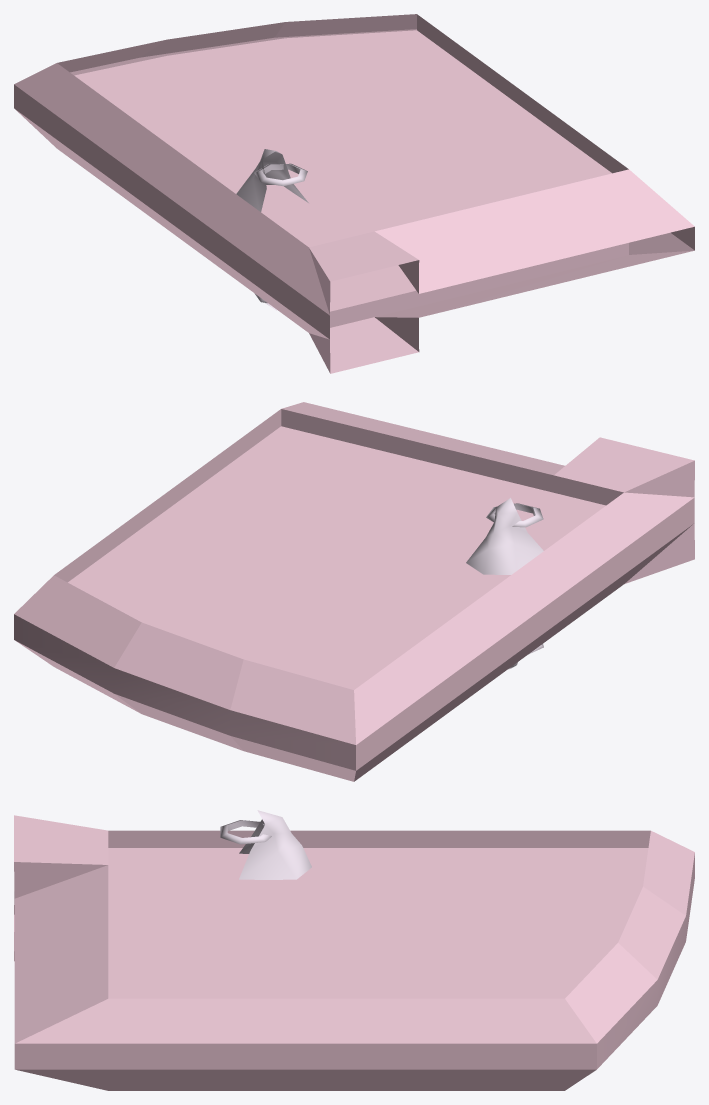
The picture shows the model from 3 angles, top to bottom: view 1: azimuth 30°, elevation 25°; view 2: azimuth 150°, elevation 25°; view 3: azimuth 270°, elevation 25°; orthographic projection. The views are drawn at different scales.
Parts seen in each view (by area): view 1: Object21; view 2: Object21; view 3: Object21.
Part boxes in pixels (<box>): Object21: <box>14,14,694,373</box>; Object21: <box>14,402,694,781</box>; Object21: <box>14,810,694,1090</box>.
Size of the model in its own units: 20000 by 8385 by 30028.
